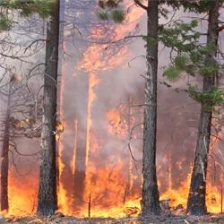fire: (3, 149, 224, 218), (81, 1, 148, 75)
